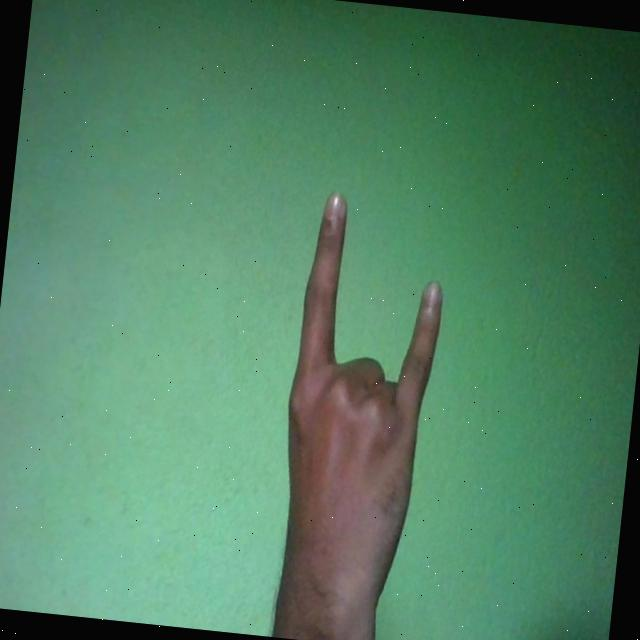open Plam: (262, 186, 453, 639)
